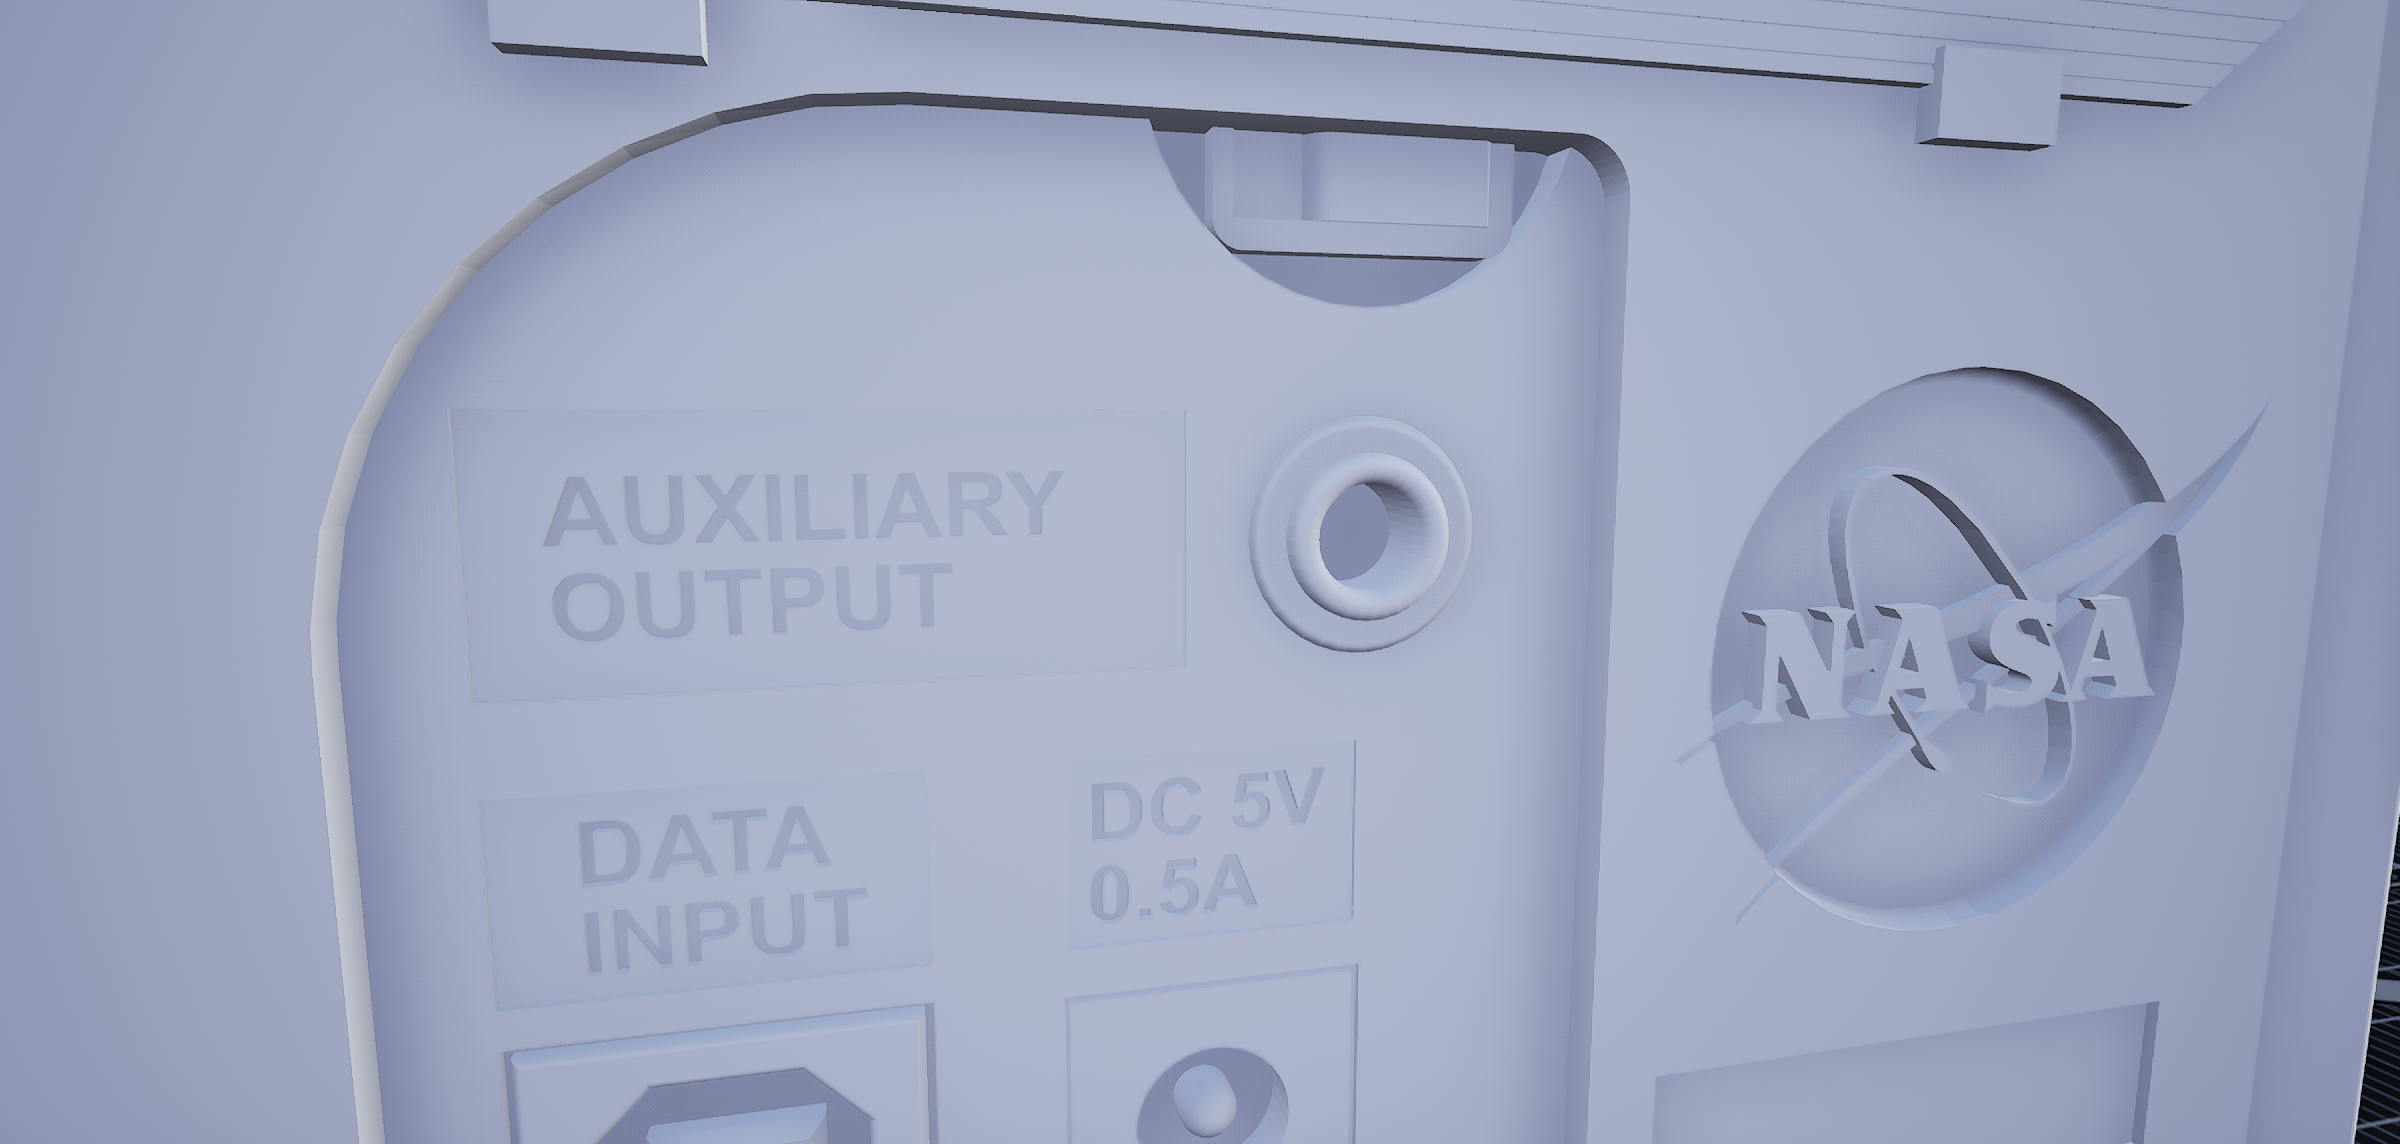aux: (1237, 401, 1489, 678)
dc: (1130, 1035, 1301, 1144)
usb: (574, 1070, 888, 1144)
